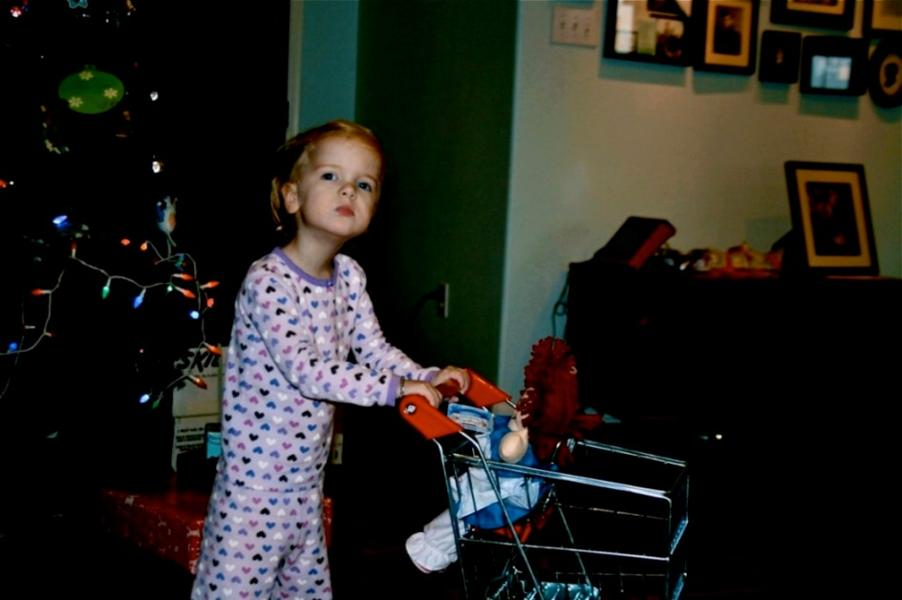person: (191, 118, 473, 594)
